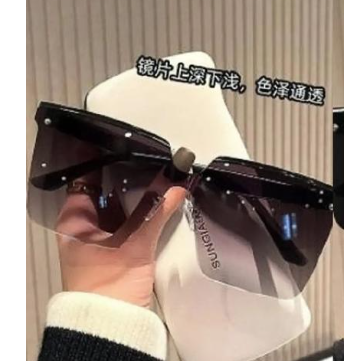glass: (25, 98, 336, 301)
